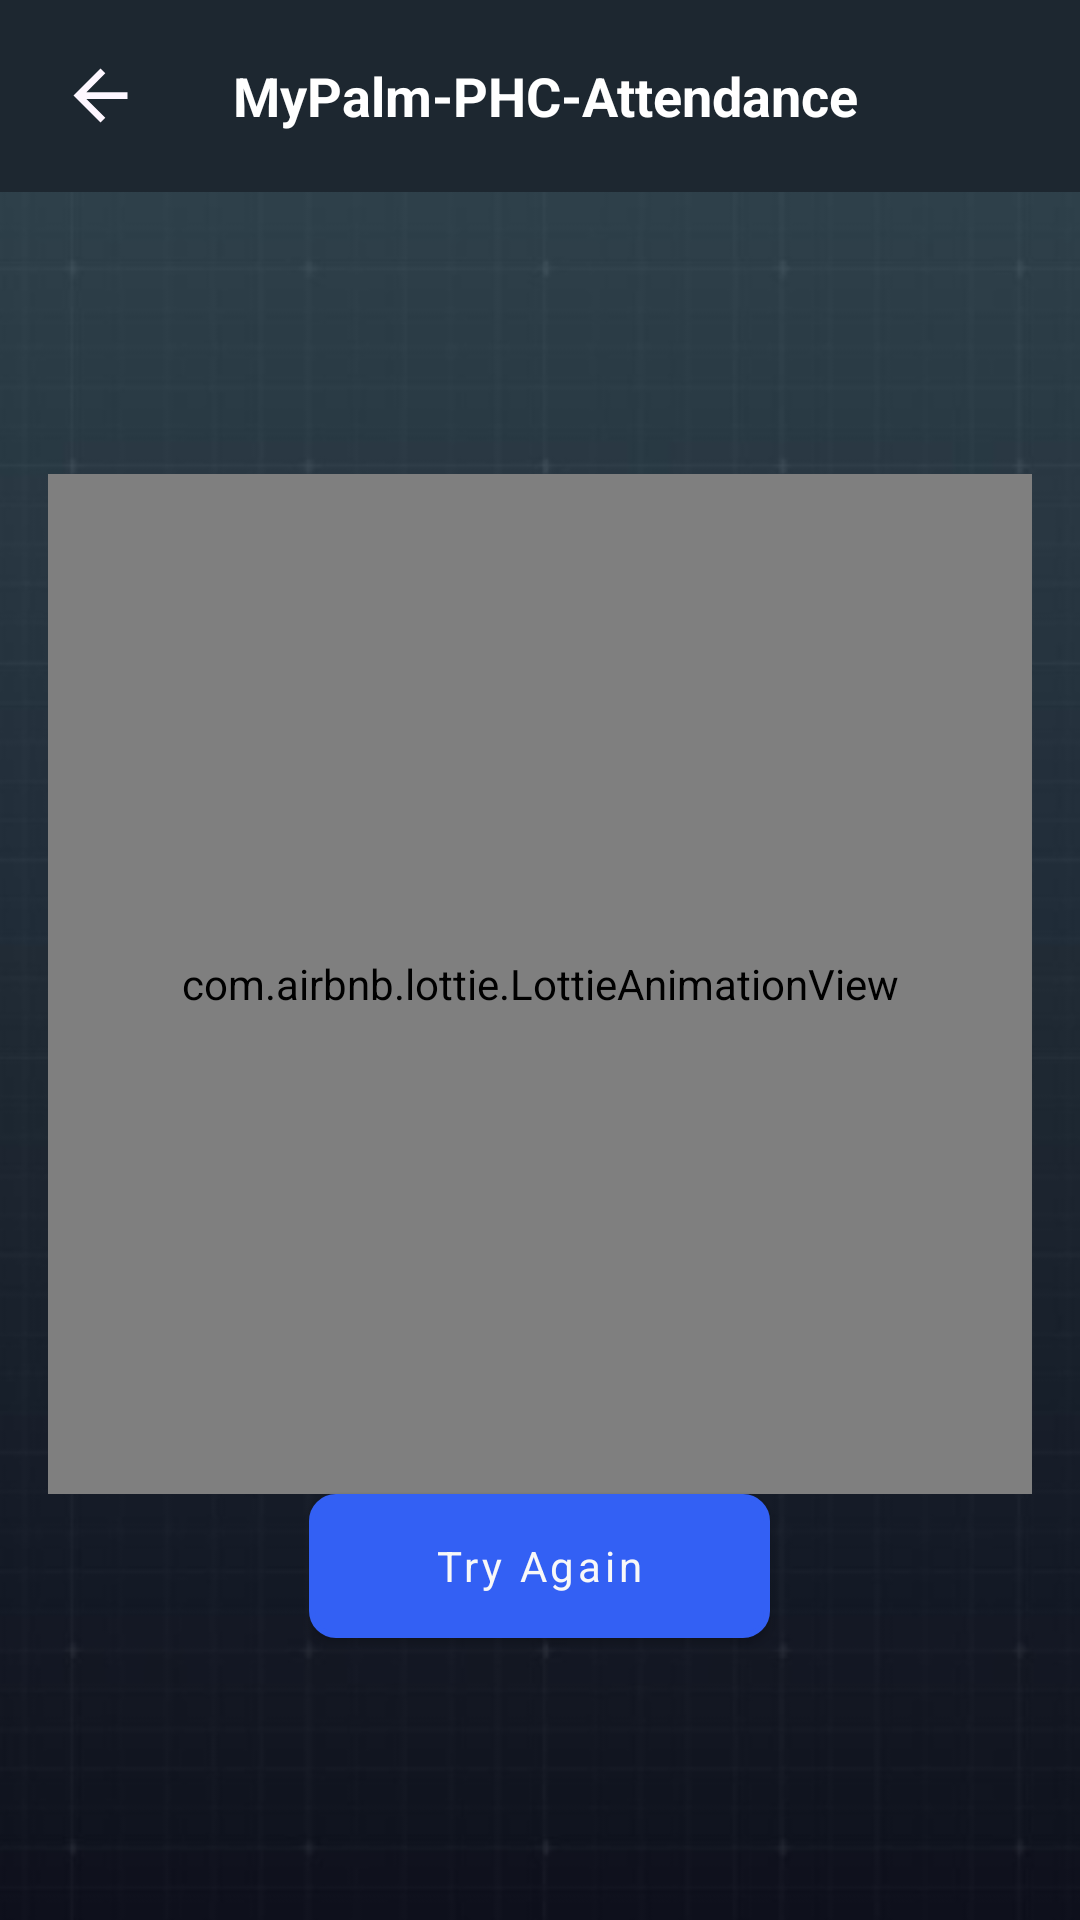

Icons on this 1080 × 1920 Android screen, each with its box as [x1=x1, y1=y1, x2=x2, y2=y2]:
arrow back: [x1=73, y1=68, x2=128, y2=123]
